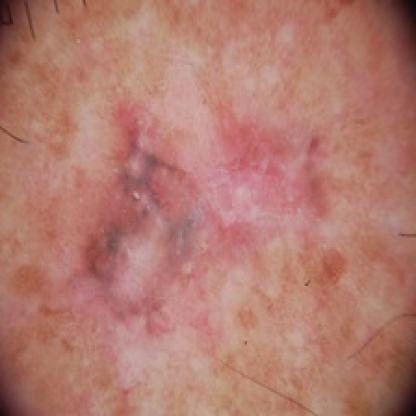malignant: (72, 95, 327, 353)
